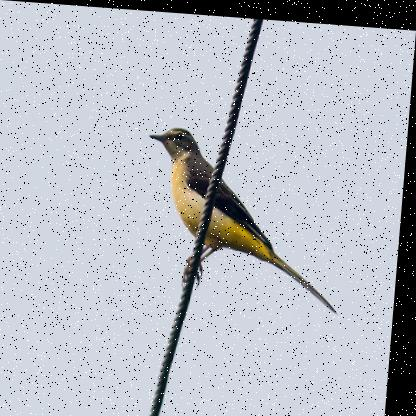Burung: (139, 121, 353, 310)
